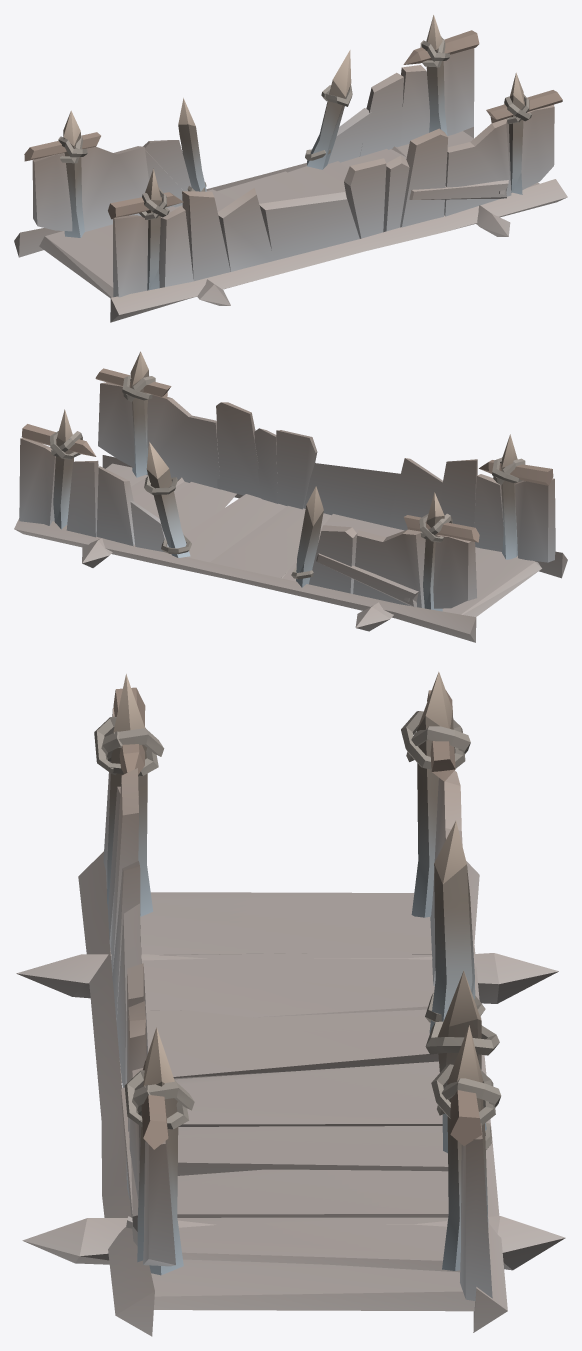
File: Terrain_Stage2_Decoration_8.fbx
3 renders of one model, top to bottom at view 1: azimuth 30°, elevation 25°; view 2: azimuth 150°, elevation 25°; view 3: azimuth 270°, elevation 25°, orthographic. The views are drawn at different scales.
Visible parts, largest first — view 1: terrain_tower_403_LOD0; view 2: terrain_tower_403_LOD0; view 3: terrain_tower_403_LOD0.
Part boxes in pixels (box(x1,y1,x2,y2)): terrain_tower_403_LOD0: box(14, 15, 567, 322); terrain_tower_403_LOD0: box(14, 351, 567, 642); terrain_tower_403_LOD0: box(16, 671, 565, 1336).
Bounding box in the file's own units: 1220 × 363 × 638.
1 material, 1 textured.
